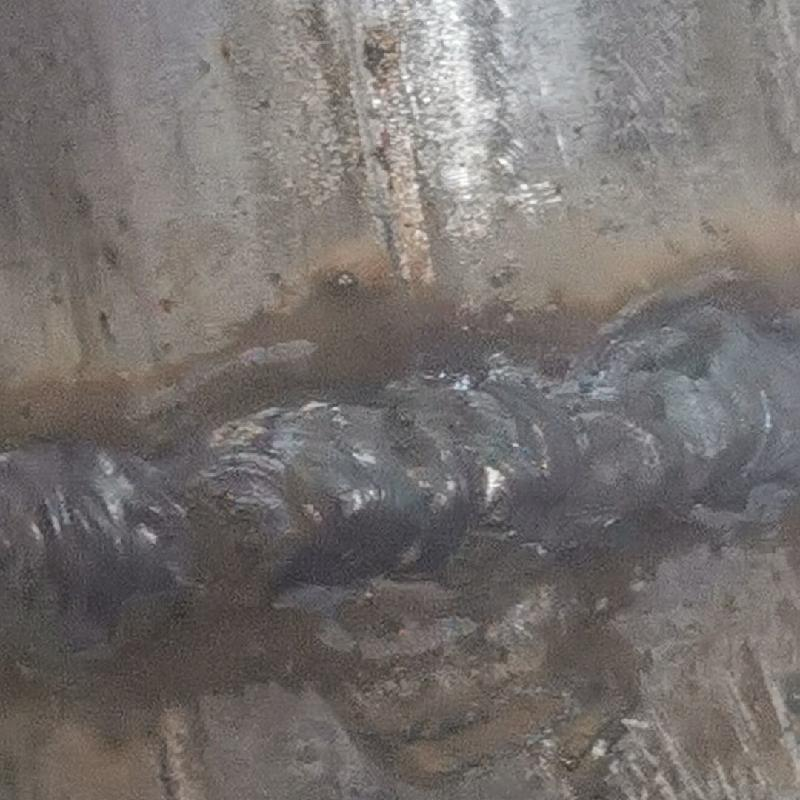good: (5, 305, 799, 624)
